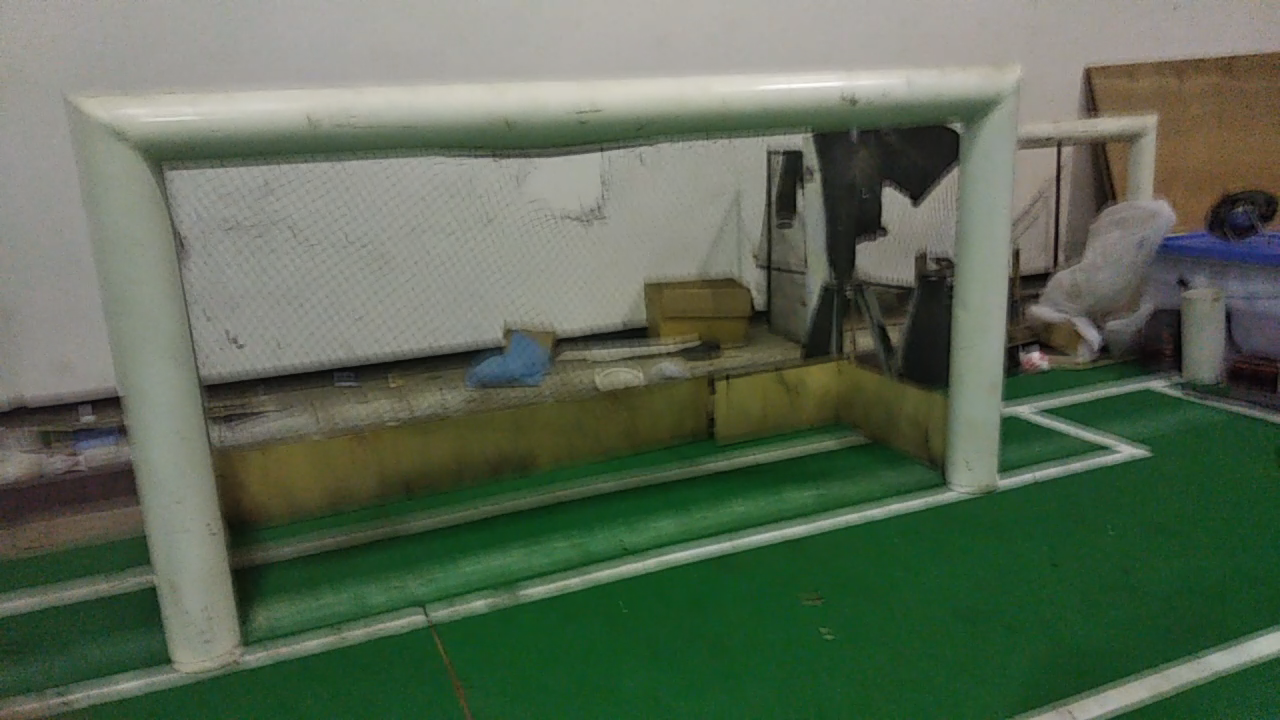gawang: (47, 49, 1038, 687)
